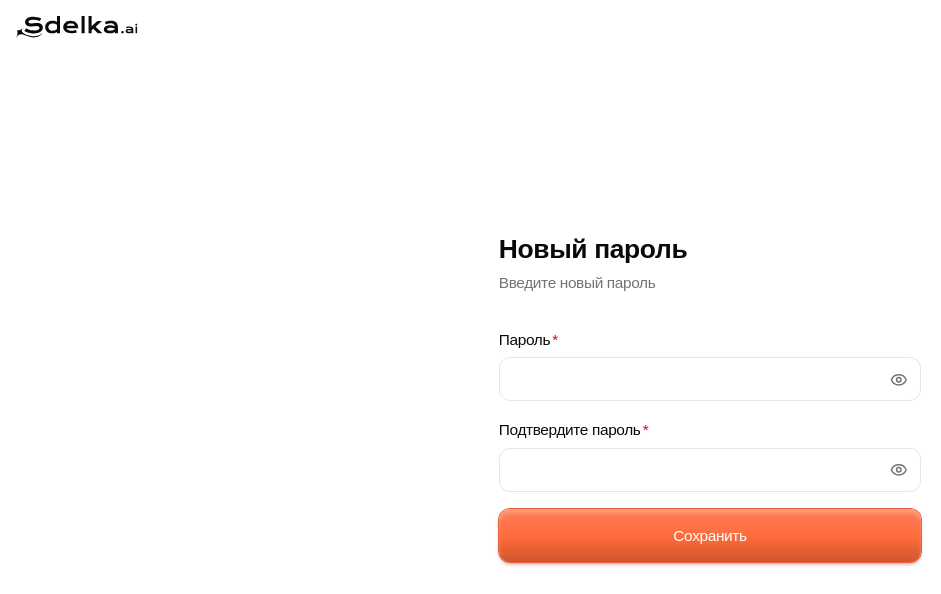
Test: ResetPasswordPage › inline error: passwords do not match (client-side validation)
Type "newSecure1" into the password field labelled "Пароль" at (710, 379), box [499,357,921,401]
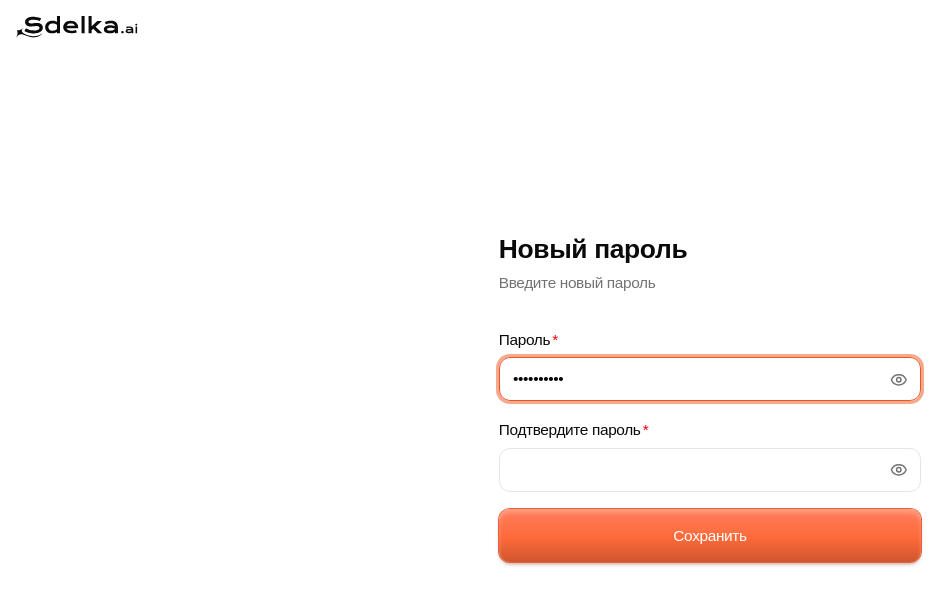
Type "differentPass1" into the password field labelled "Подтвердите пароль" at (710, 470), box [499,448,921,492]
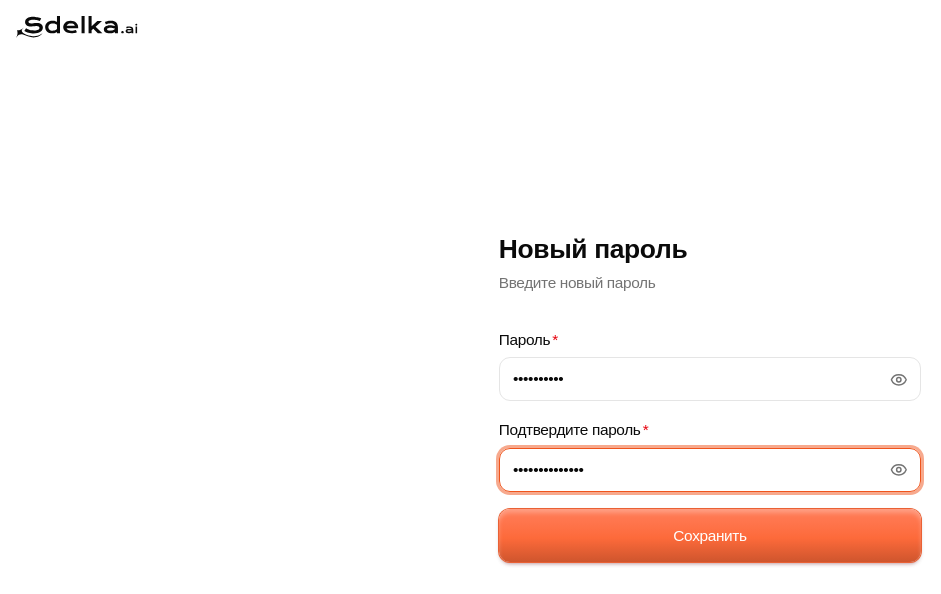
Click the button "Сохранить" at (710, 536), box [499,509,921,562]
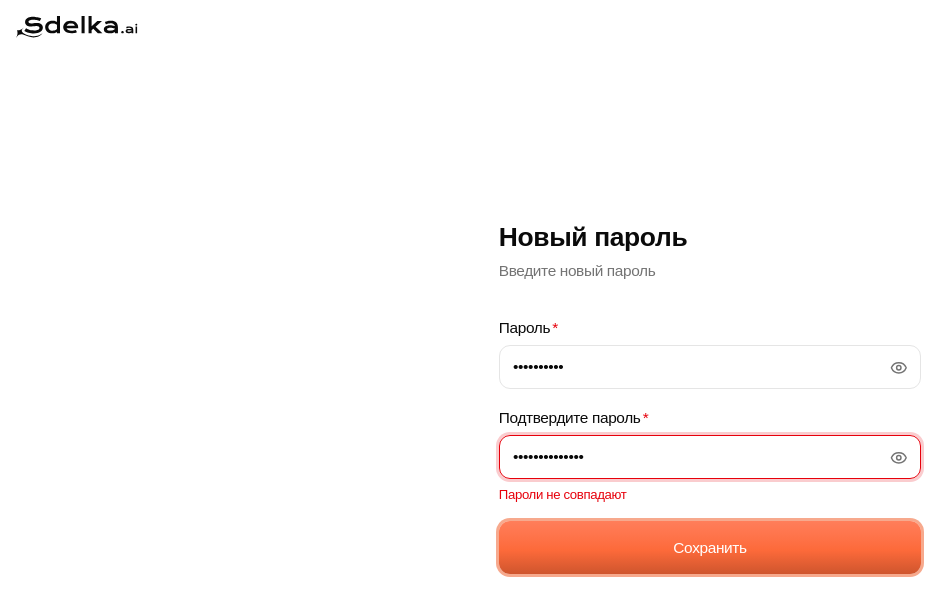
Expected: the text "Пароли не совпадают" is shown, [499,487,627,502]
